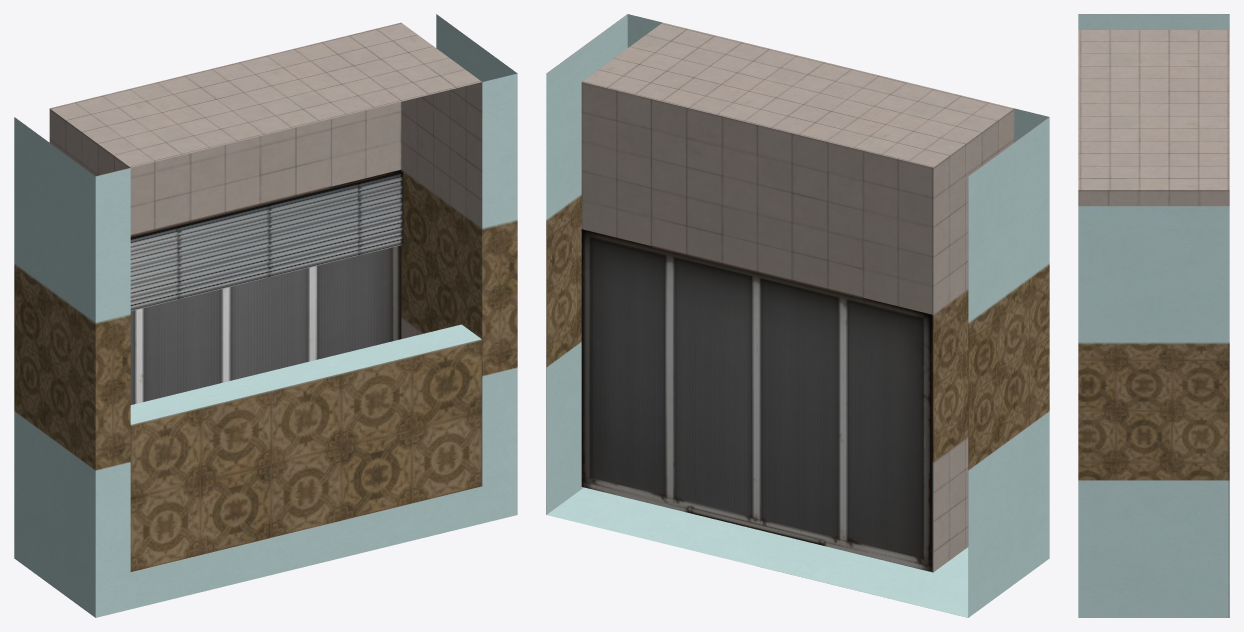
The model's file is Building B Window A4.fbx.
3 views of the same model, side by side, from view 1: azimuth 30°, elevation 25°; view 2: azimuth 150°, elevation 25°; view 3: azimuth 270°, elevation 25° (orthographic). The views are drawn at different scales.
Visible parts, largest first — view 1: Building B Window A4 (2, Baked); view 2: Building B Window A4 (2, Baked); view 3: Building B Window A4 (2, Baked).
Part boxes in pixels (<box>): Building B Window A4 (2, Baked): <box>14,14,517,617</box>; Building B Window A4 (2, Baked): <box>546,14,1049,617</box>; Building B Window A4 (2, Baked): <box>1078,14,1229,617</box>.
Size of the model in its own units: 300 by 300 by 100.
